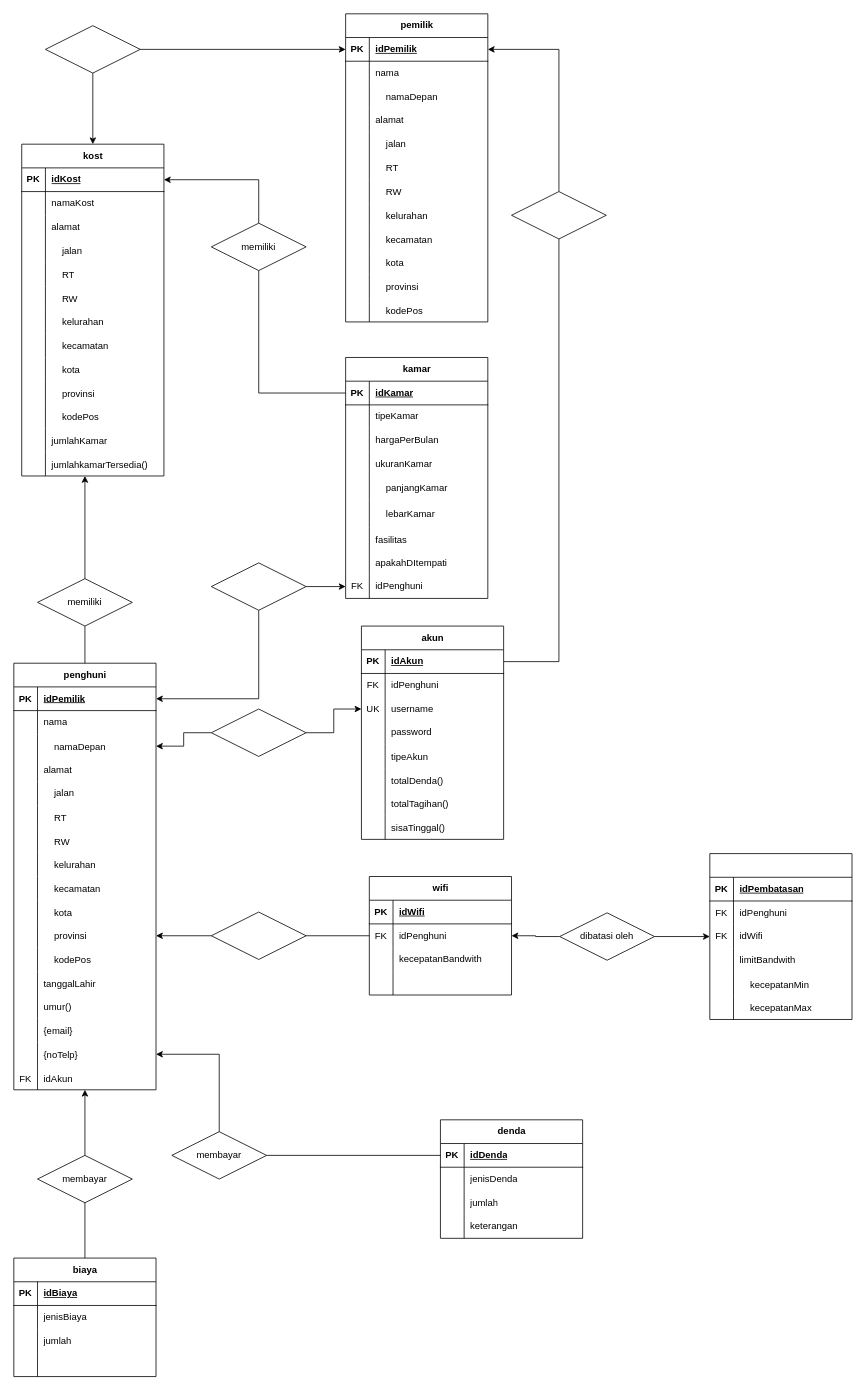
This 866x1390 diagram has some shape labels left out. The shapes that lost their labels are listed below. From the top down, each one's box as (x1, y1, x2, y2) in pixels, then its label:
(45, 25, 140, 73): Diatur oleh
(511, 191, 606, 239): mengelola
(211, 562, 306, 610): menyewa
(211, 708, 306, 756): mempunyai
(211, 911, 306, 959): mengakses
(709, 853, 852, 1019): pembatasanBandwith
